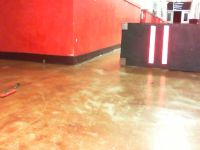switch: (162, 25, 169, 64), (149, 25, 156, 63)
